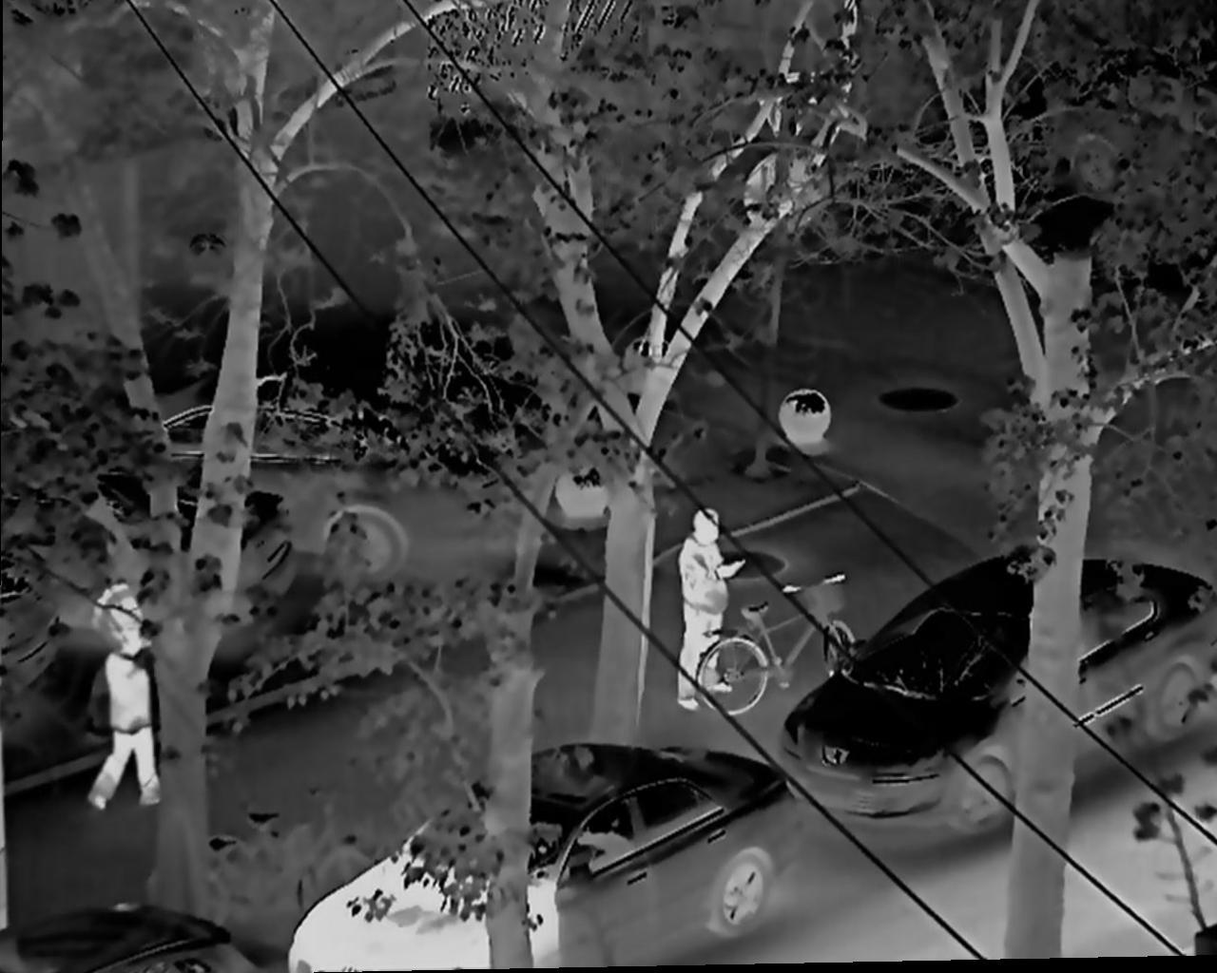person: (677, 505, 745, 712), (87, 627, 163, 810)
